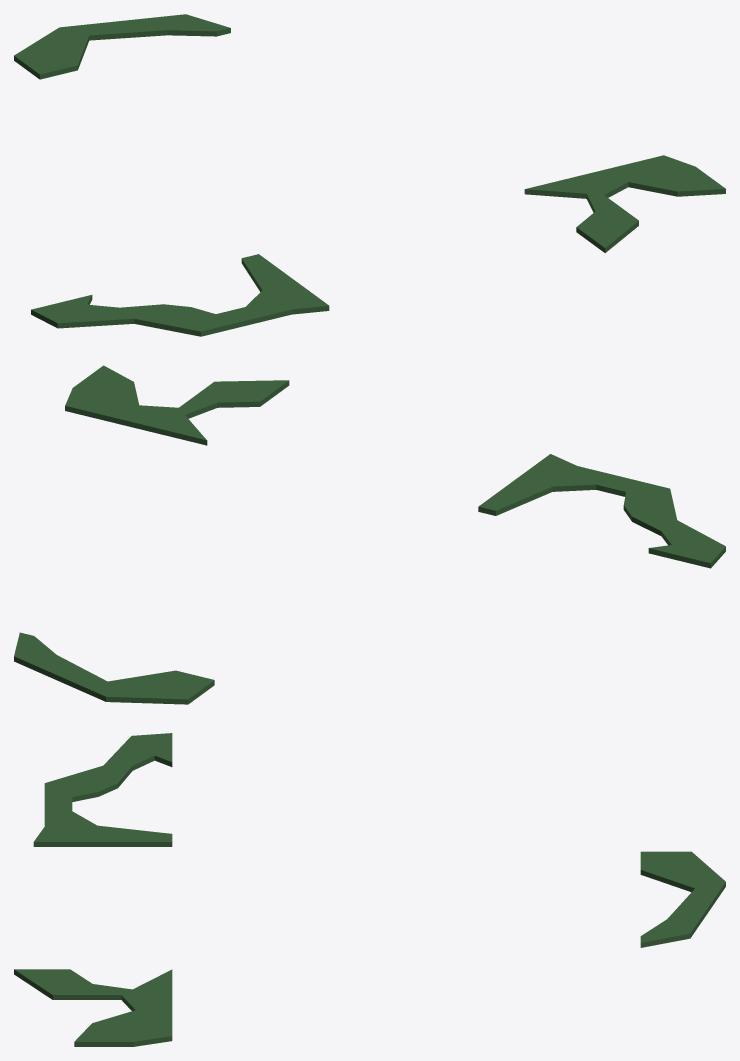
Rendered from GRUP_BOLOTA_k5.fbx.
3 views of the same model, one above another, from view 1: azimuth 30°, elevation 25°; view 2: azimuth 150°, elevation 25°; view 3: azimuth 270°, elevation 25° (orthographic). The views are drawn at different scales.
Parts seen in each view (by area): view 1: x_proval_00_28_1, x_proval_00_34_1, x_proval_00_31_1, x_proval_00_32_1, x_proval_00_29_1, x_proval_00_30_1, x_proval_00_35_1, x_proval_00_33_1; view 2: x_proval_00_28_1, x_proval_00_31_1, x_proval_00_34_1, x_proval_00_30_1, x_proval_00_35_1, x_proval_00_32_1, x_proval_00_29_1, x_proval_00_33_1; view 3: x_proval_00_28_1, x_proval_00_34_1, x_proval_00_31_1, x_proval_00_35_1, x_proval_00_30_1, x_proval_00_32_1, x_proval_00_29_1, x_proval_00_33_1.
Part boxes in pixels (bbox=[...]): x_proval_00_28_1: bbox=[241, 254, 329, 325]; x_proval_00_34_1: bbox=[610, 155, 725, 196]; x_proval_00_31_1: bbox=[14, 24, 93, 79]; x_proval_00_32_1: bbox=[89, 14, 230, 40]; x_proval_00_29_1: bbox=[134, 304, 246, 336]; x_proval_00_30_1: bbox=[31, 295, 162, 328]; x_proval_00_35_1: bbox=[576, 193, 638, 252]; x_proval_00_33_1: bbox=[524, 168, 628, 198]; x_proval_00_28_1: bbox=[478, 454, 622, 515]; x_proval_00_31_1: bbox=[81, 670, 214, 704]; x_proval_00_34_1: bbox=[65, 365, 138, 424]; x_proval_00_30_1: bbox=[632, 516, 725, 568]; x_proval_00_35_1: bbox=[179, 380, 289, 418]; x_proval_00_32_1: bbox=[14, 632, 107, 690]; x_proval_00_29_1: bbox=[596, 477, 676, 520]; x_proval_00_33_1: bbox=[120, 405, 207, 445]; x_proval_00_28_1: bbox=[33, 805, 172, 846]; x_proval_00_34_1: bbox=[74, 1010, 172, 1046]; x_proval_00_31_1: bbox=[640, 851, 725, 900]; x_proval_00_35_1: bbox=[14, 969, 132, 999]; x_proval_00_30_1: bbox=[103, 733, 172, 787]; x_proval_00_32_1: bbox=[640, 888, 716, 947]; x_proval_00_29_1: bbox=[44, 765, 117, 810]; x_proval_00_33_1: bbox=[121, 969, 172, 1010].
Size of the model in its own units: 26.21 by 0.2 by 25.53.
